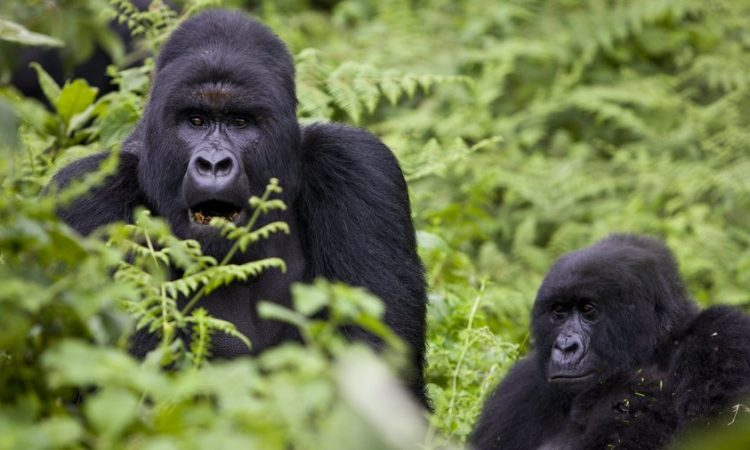Goriila: (46, 3, 438, 450), (473, 235, 750, 442)
